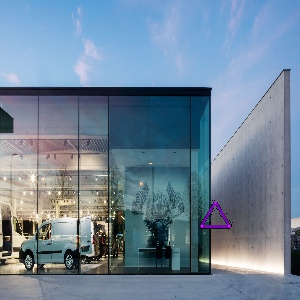triangle: (197, 198, 234, 233)
